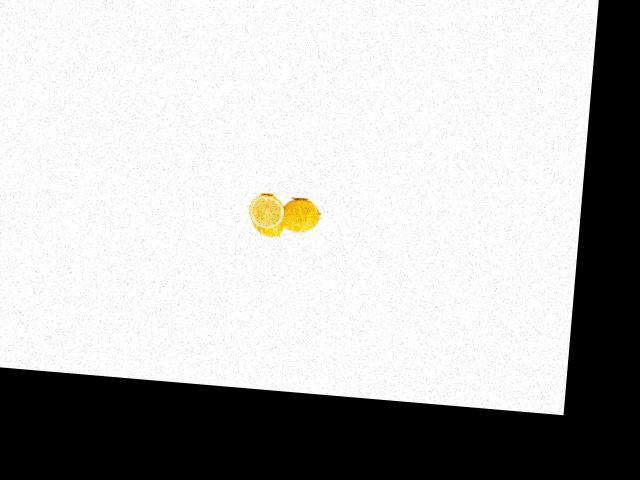lemon: (242, 201, 287, 241)
